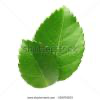Apple leaf: (15, 3, 86, 89)
